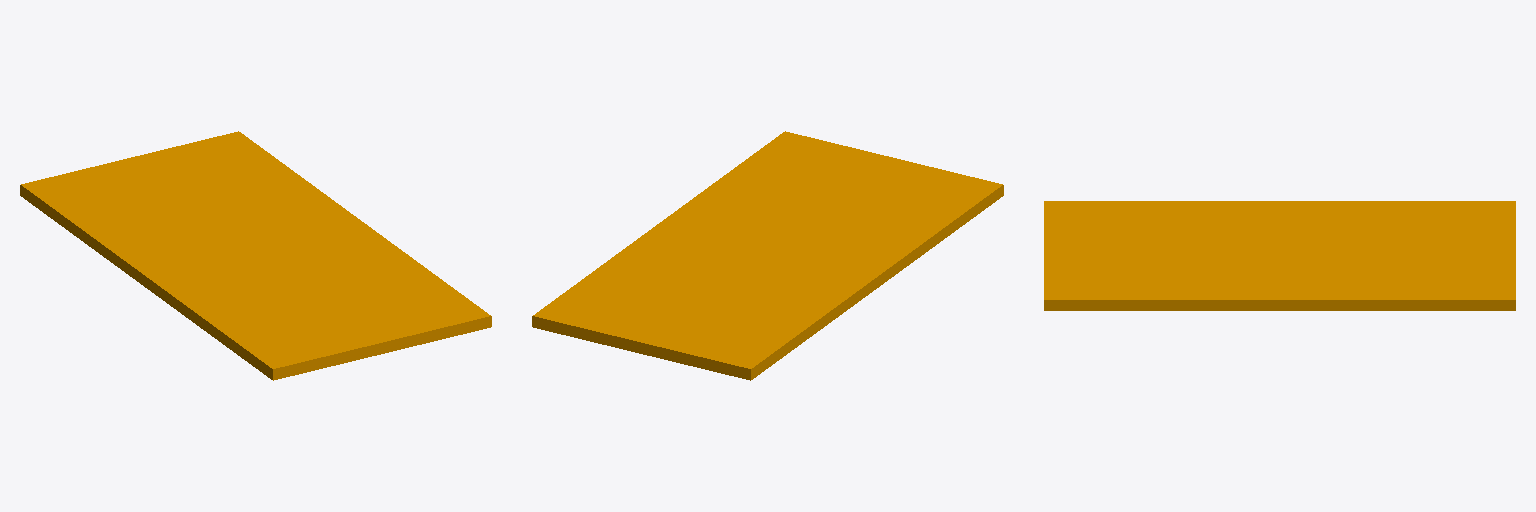
The robot description file, URDF, robot "block":
<?xml version="1.0"?>
<robot name="block">

<link name="Chipotle's Finest Tray">

  <collision>
    <origin xyz="0 0 0" rpy="0 0 0"/>
    <geometry>
      <box size="0.1 0.2 0.005" />
    </geometry>
  </collision>

  <visual>
    <origin xyz="0 0 0" rpy="0 0 0"/>
    <geometry>
      <box size="0.1 0.2 0.005" />
    </geometry>
  </visual>

  <inertial>
   <origin xyz="0 0 0" rpy="0 0 0"/>
   <mass value="0.2" />
   <inertia
      ixx="0.00000379215" ixy="0.0"  ixz="0.0"
      iyy="0.00000379215" iyz="0.0"  izz="0.00000379215" />
  </inertial>

</link>

<gazebo reference="Chipotle's Finest Tray">
  <mu1>100</mu1>
  <mu2>100</mu2>
  <kp>2147483647</kp>
  <kd>1</kd>
  <maxVel>0</maxVel>
  <minDepth>0.001</minDepth>
  <material>Gazebo/Silver</material>
</gazebo>

</robot>

--- Render facts (derived) ---
3 views of the same robot in one strip: view 1: azimuth 30°, elevation 25°; view 2: azimuth 150°, elevation 25°; view 3: azimuth 270°, elevation 25° (orthographic).
Robot: block — 1 links, 0 joints (none); root link Chipotle's Finest Tray; default pose: all joints at 0.
Links seen in each view (by area): view 1: Chipotle's Finest Tray; view 2: Chipotle's Finest Tray; view 3: Chipotle's Finest Tray.
Boxes of the visible links, left/top/right/bottom form: Chipotle's Finest Tray: left=20, top=131, right=491, bottom=380; Chipotle's Finest Tray: left=532, top=131, right=1003, bottom=380; Chipotle's Finest Tray: left=1044, top=201, right=1515, bottom=310.
Size in the robot's own frame: 0.1 by 0.2 by 0.005 metres.
Geometry: primitives only (box / cylinder / sphere), no mesh files.
